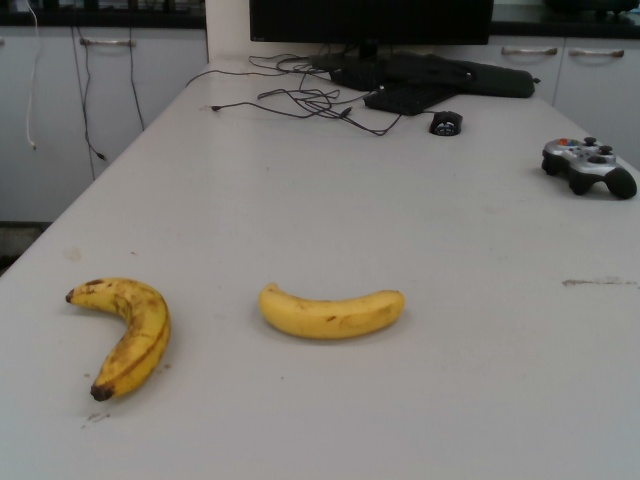banana: (59, 276, 172, 403), (254, 279, 406, 342)
